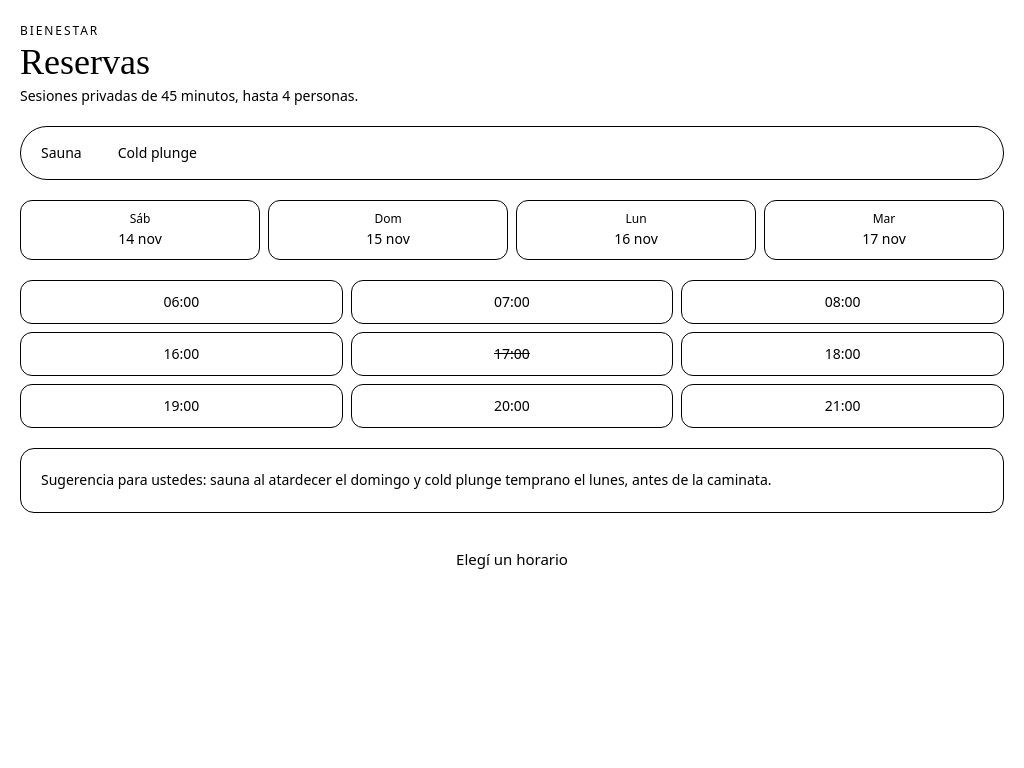
Scenario: confirmar una reserva › el horario reservado queda ocupado en la grilla
Click the button "20:00".
click(512, 406)  # box [351, 384, 673, 428]
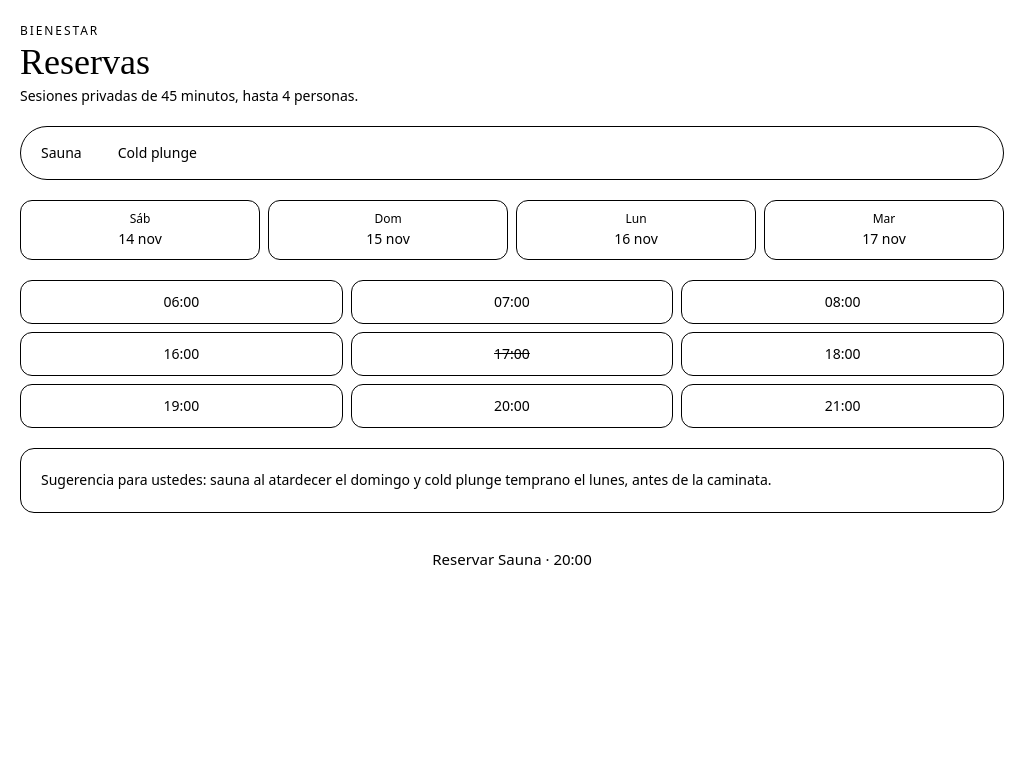
Click the button "Reservar Sauna · 20:00".
click(512, 559)  # box [20, 533, 1004, 585]
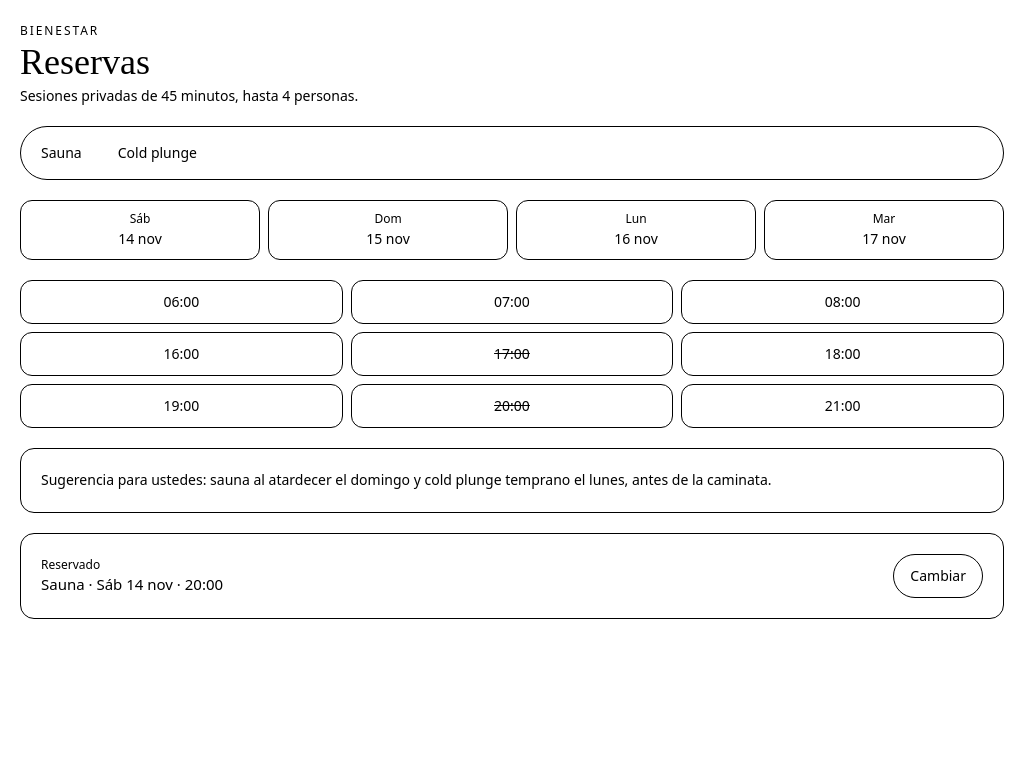
Expected: the button named "20:00, ocupado" is disabled, [351, 384, 673, 428]
